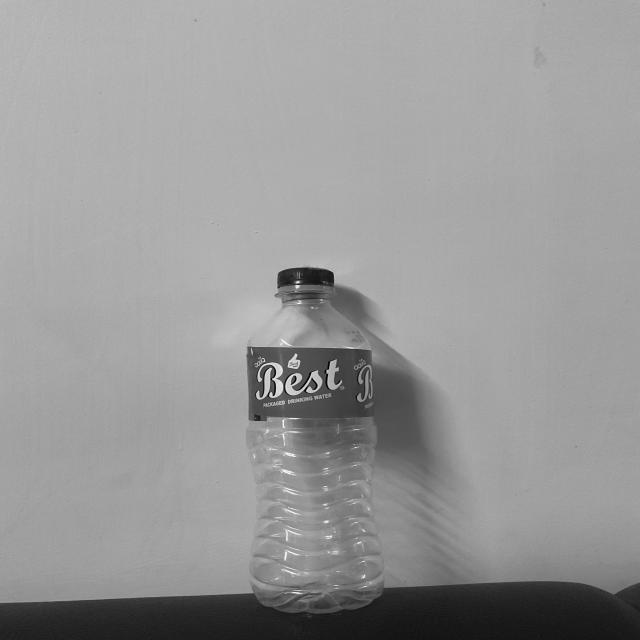Good-cap-Df0S: (274, 266, 338, 298)
